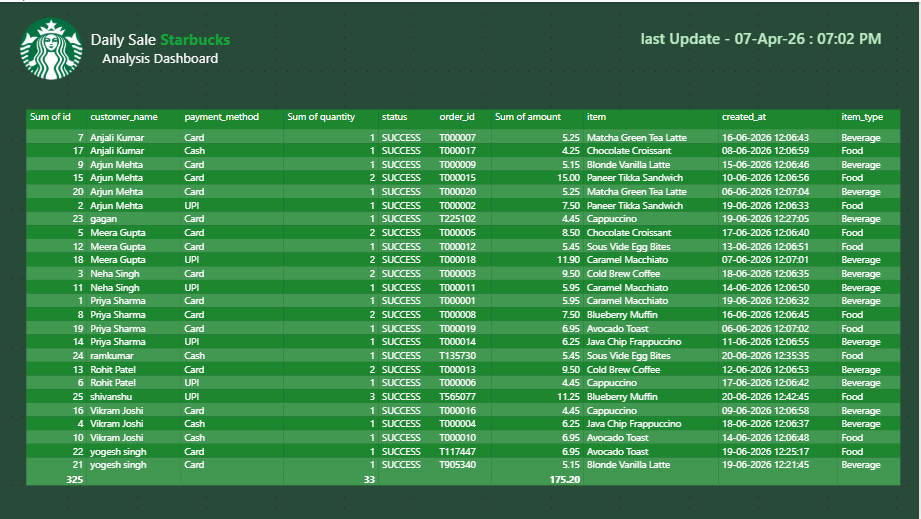

Layout of this report page (visuals, bound fields, positions):
{"tool":"powerbi","page":{"name":"Details","canvas":[1280,720],"ordinal":2},"visuals":[{"type":"image","box":[16,16,112,96],"z":0},{"type":"textbox","box":[80,32,288,80],"z":1000},{"type":"cardVisual","fields":{"Data":["Calender.Formate_Mam_Date"]},"box":[864,16,416,64],"z":2000},{"type":"tableEx","fields":{"Values":["Sum(orders.id)","orders.customer_name","orders.payment_method","Sum(orders.quantity)","orders.status","orders.order_id","Sum(orders.amount)","orders.item","orders.created_at.Variation.Date Hierarchy.Year","orders.item_type"]},"box":[32,144,1232,544],"z":3000}]}

Visuals, with their boxes in screenshot pixels (x1, y1, x2, y2), scaled from the page's 1280x720 canvas onto the 921x519 screenshot:
image: 12/12/92/81
textbox: 58/23/265/81
cardVisual - Calender.Formate_Mam_Date: 622/12/920/58
tableEx - Sum(orders.id) x orders.customer_name: 23/104/909/496
